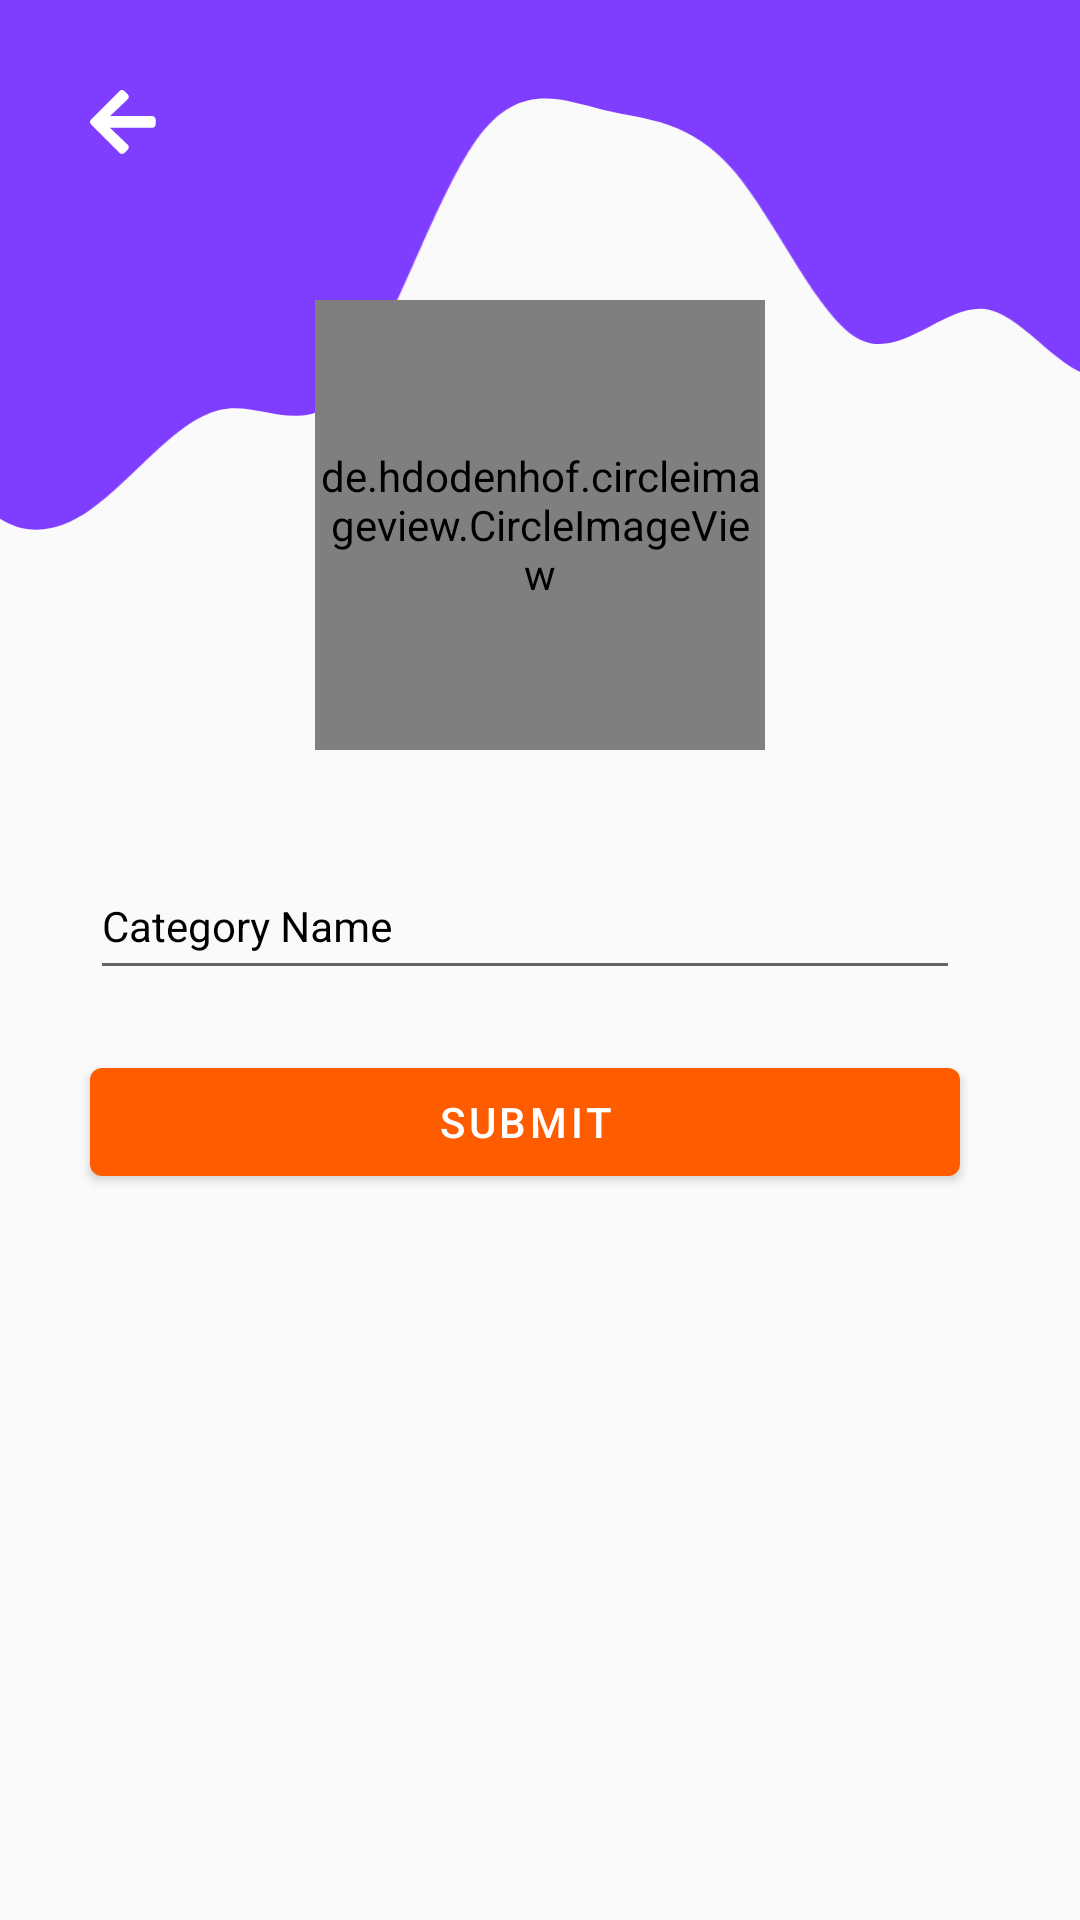

Named icons in this screenshot (1080w x 1920h) and their centers, (x=x, y=y):
back arrow: (x=123, y=122)
